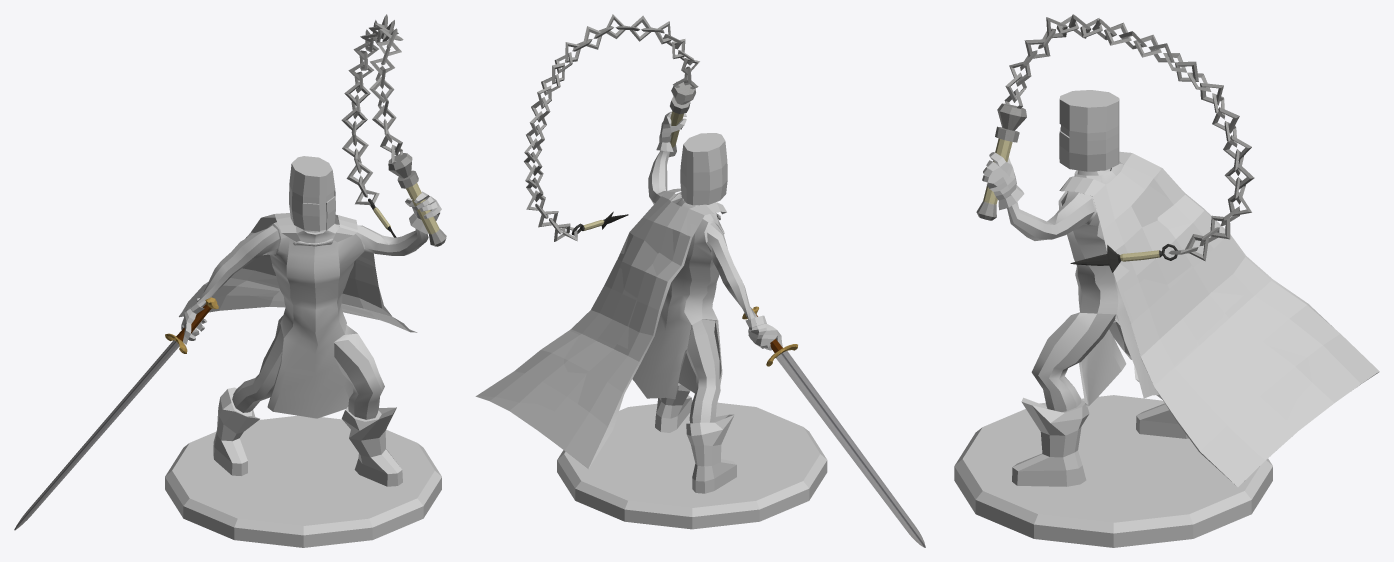
The model's file is Templar_Sword_Hook.fbx.
3 renders of one model, left to right at view 1: azimuth 30°, elevation 25°; view 2: azimuth 150°, elevation 25°; view 3: azimuth 270°, elevation 25°, orthographic. The views are drawn at different scales.
Visible parts, largest first — view 1: Templar_Sword_Hook, Base9, Cape, Hook, Sword; view 2: Cape, Base9, Templar_Sword_Hook, Hook, Sword; view 3: Cape, Base9, Templar_Sword_Hook, Hook.
Part boxes in pixels (left/top/right/bottom): Templar_Sword_Hook: left=181, top=156, right=441, bottom=486; Base9: left=165, top=415, right=441, bottom=547; Cape: left=179, top=213, right=417, bottom=332; Hook: left=341, top=14, right=446, bottom=246; Sword: left=14, top=297, right=218, bottom=530; Cape: left=475, top=188, right=726, bottom=468; Base9: left=557, top=399, right=827, bottom=529; Templar_Sword_Hook: left=632, top=111, right=782, bottom=493; Hook: left=524, top=14, right=699, bottom=241; Sword: left=742, top=306, right=925, bottom=547; Cape: left=1059, top=151, right=1379, bottom=486; Base9: left=954, top=395, right=1272, bottom=547; Templar_Sword_Hook: left=982, top=90, right=1188, bottom=486; Hook: left=976, top=14, right=1254, bottom=272.
Size of the model in its own units: 360 by 354 by 267.
